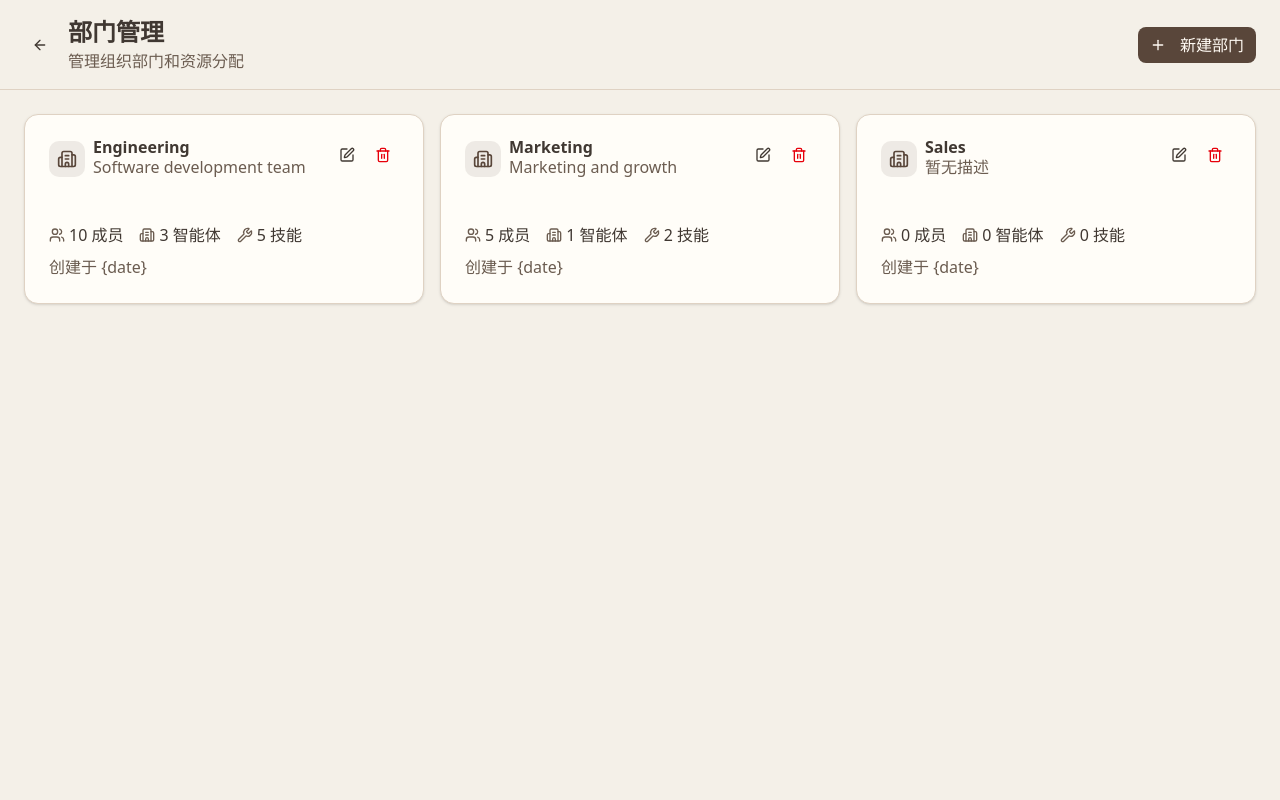
it: DepartmentsPage › shows 'saving...' text while update is in progress
Expected: the element with test id "department-list" is shown, left=24, top=114, right=1256, bottom=304
Click the button with test id "department-edit-button" at (347, 155), box left=331, top=139, right=363, bottom=171
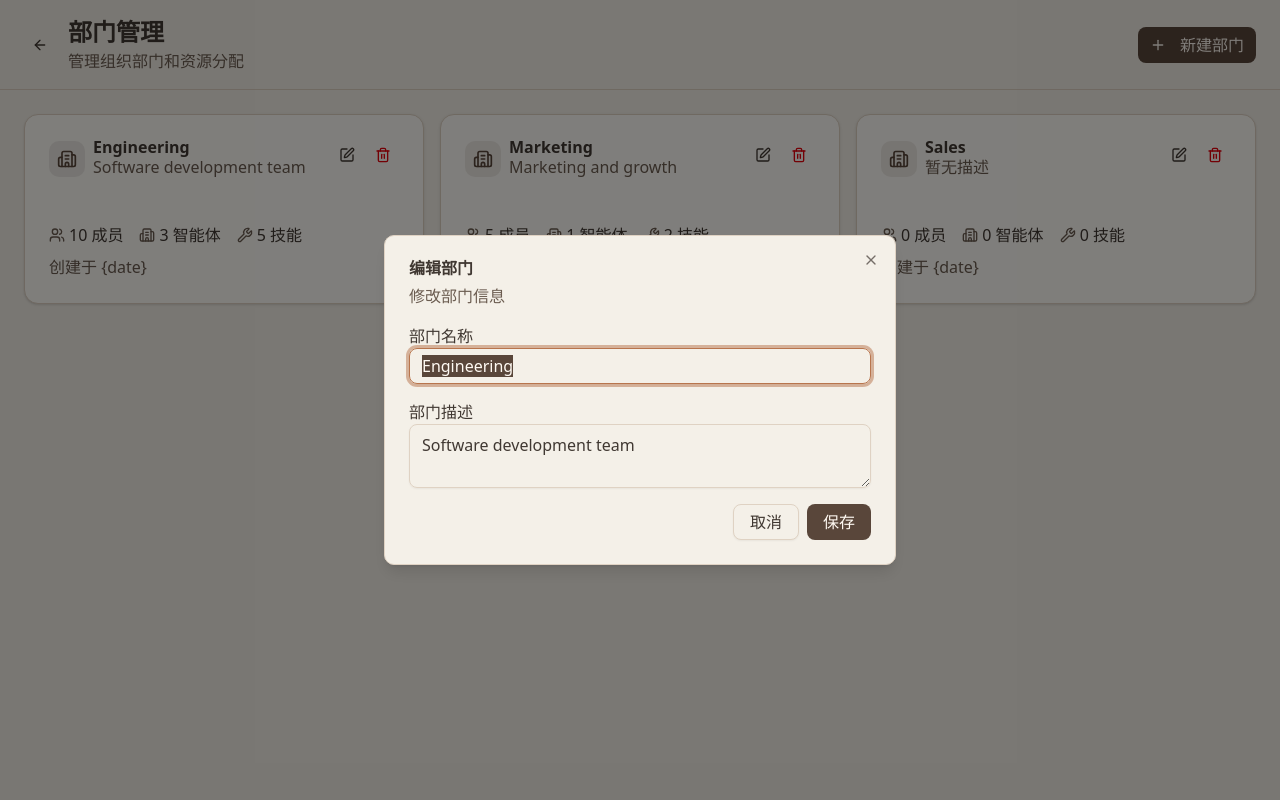
Result: the field with placeholder "请输入部门名称" is shown at left=409, top=348, right=871, bottom=384
Click the button "保存" at (839, 522), box left=807, top=504, right=871, bottom=540
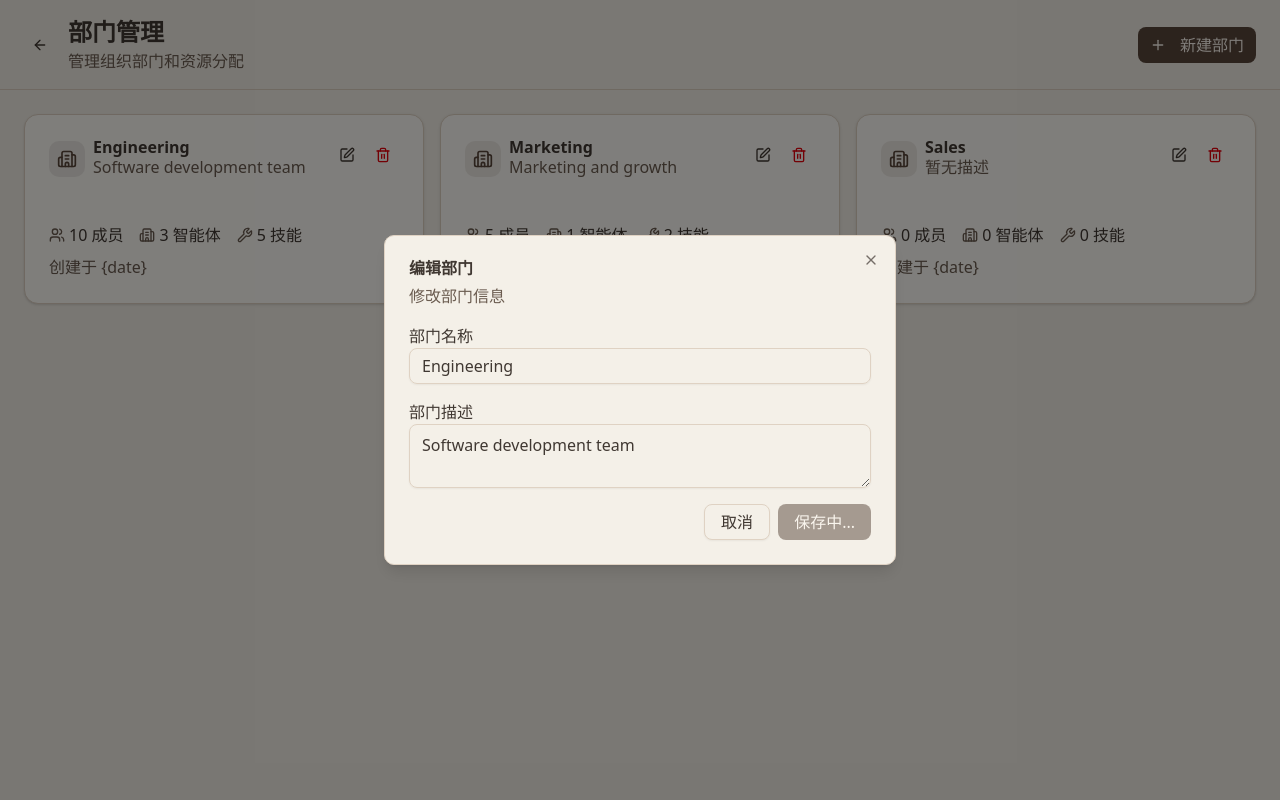
Result: the button "保存中..." is shown at left=778, top=504, right=871, bottom=540
